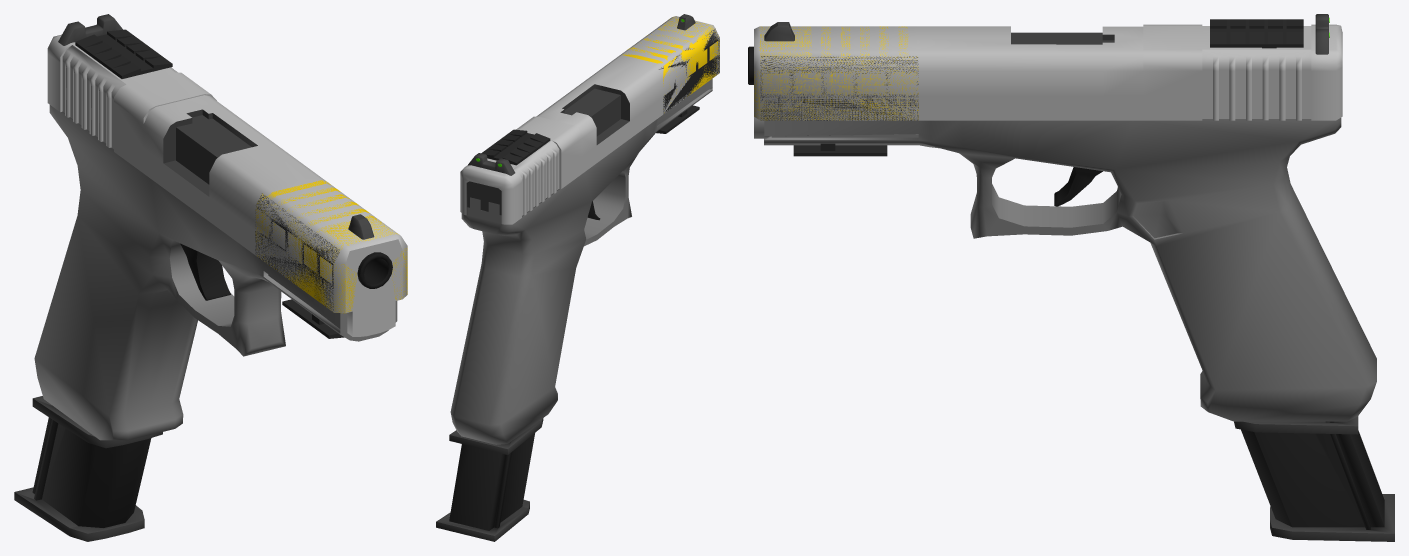
File: BNG_Gun_Pistol.fbx
3 views of the same model, side by side, from view 1: azimuth 30°, elevation 25°; view 2: azimuth 150°, elevation 25°; view 3: azimuth 270°, elevation 25° (orthographic). The views are drawn at different scales.
Visible parts, largest first — view 1: BNG_Gun_Pistol_Body, BNG_Gun_Pistol_Slide, BNG_Gun_Pistol_Magazine_Big, BNG_Gun_Pistol_Slide_Yellow, BNG_Gun_Pistol_Slide_Advance, BNG_Gun_Pistol_Slide_Black, BNG_Gun_Pistol_Trigger, BNG_Gun_Pistol_Magazine, BNG_Gun_Pistol_Body_Advance; view 2: BNG_Gun_Pistol_Body, BNG_Gun_Pistol_Slide, BNG_Gun_Pistol_Magazine_Big, BNG_Gun_Pistol_Slide_Yellow, BNG_Gun_Pistol_Slide_Advance, BNG_Gun_Pistol_Slide_Black, BNG_Gun_Pistol_Magazine, BNG_Gun_Pistol_Body_Advance; view 3: BNG_Gun_Pistol_Body, BNG_Gun_Pistol_Slide, BNG_Gun_Pistol_Magazine_Big, BNG_Gun_Pistol_Slide_Yellow, BNG_Gun_Pistol_Slide_Black, BNG_Gun_Pistol_Slide_Advance, BNG_Gun_Pistol_Magazine, BNG_Gun_Pistol_Body_Advance, BNG_Gun_Pistol_Trigger.
Part boxes in pixels (x1=…): BNG_Gun_Pistol_Body: x1=34, y1=105, x2=397, y2=440; BNG_Gun_Pistol_Slide: x1=47, y1=14, x2=407, y2=336; BNG_Gun_Pistol_Magazine_Big: x1=14, y1=417, x2=151, y2=541; BNG_Gun_Pistol_Slide_Yellow: x1=255, y1=180, x2=407, y2=313; BNG_Gun_Pistol_Slide_Advance: x1=75, y1=29, x2=172, y2=78; BNG_Gun_Pistol_Slide_Black: x1=255, y1=193, x2=339, y2=311; BNG_Gun_Pistol_Trigger: x1=180, y1=243, x2=230, y2=300; BNG_Gun_Pistol_Magazine: x1=32, y1=396, x2=162, y2=448; BNG_Gun_Pistol_Body_Advance: x1=282, y1=299, x2=344, y2=338; BNG_Gun_Pistol_Body: x1=450, y1=78, x2=712, y2=444; BNG_Gun_Pistol_Slide: x1=460, y1=14, x2=719, y2=224; BNG_Gun_Pistol_Magazine_Big: x1=436, y1=433, x2=534, y2=541; BNG_Gun_Pistol_Slide_Yellow: x1=623, y1=17, x2=719, y2=112; BNG_Gun_Pistol_Slide_Advance: x1=481, y1=129, x2=550, y2=165; BNG_Gun_Pistol_Slide_Black: x1=659, y1=28, x2=719, y2=113; BNG_Gun_Pistol_Magazine: x1=449, y1=418, x2=543, y2=454; BNG_Gun_Pistol_Body_Advance: x1=656, y1=105, x2=699, y2=133; BNG_Gun_Pistol_Body: x1=748, y1=32, x2=1376, y2=421; BNG_Gun_Pistol_Slide: x1=754, y1=14, x2=1342, y2=138; BNG_Gun_Pistol_Magazine_Big: x1=1241, y1=421, x2=1394, y2=541; BNG_Gun_Pistol_Slide_Yellow: x1=754, y1=26, x2=918, y2=120; BNG_Gun_Pistol_Slide_Black: x1=760, y1=56, x2=918, y2=120; BNG_Gun_Pistol_Slide_Advance: x1=1210, y1=19, x2=1303, y2=48; BNG_Gun_Pistol_Magazine: x1=1234, y1=416, x2=1358, y2=434; BNG_Gun_Pistol_Body_Advance: x1=793, y1=143, x2=887, y2=156; BNG_Gun_Pistol_Trigger: x1=1054, y1=167, x2=1102, y2=206.
Size of the model in its own units: 103 by 603 by 709.
